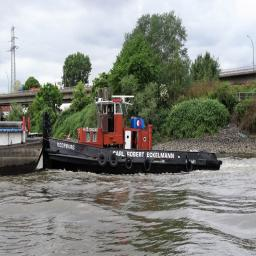tugboat: (42, 87, 225, 179)
